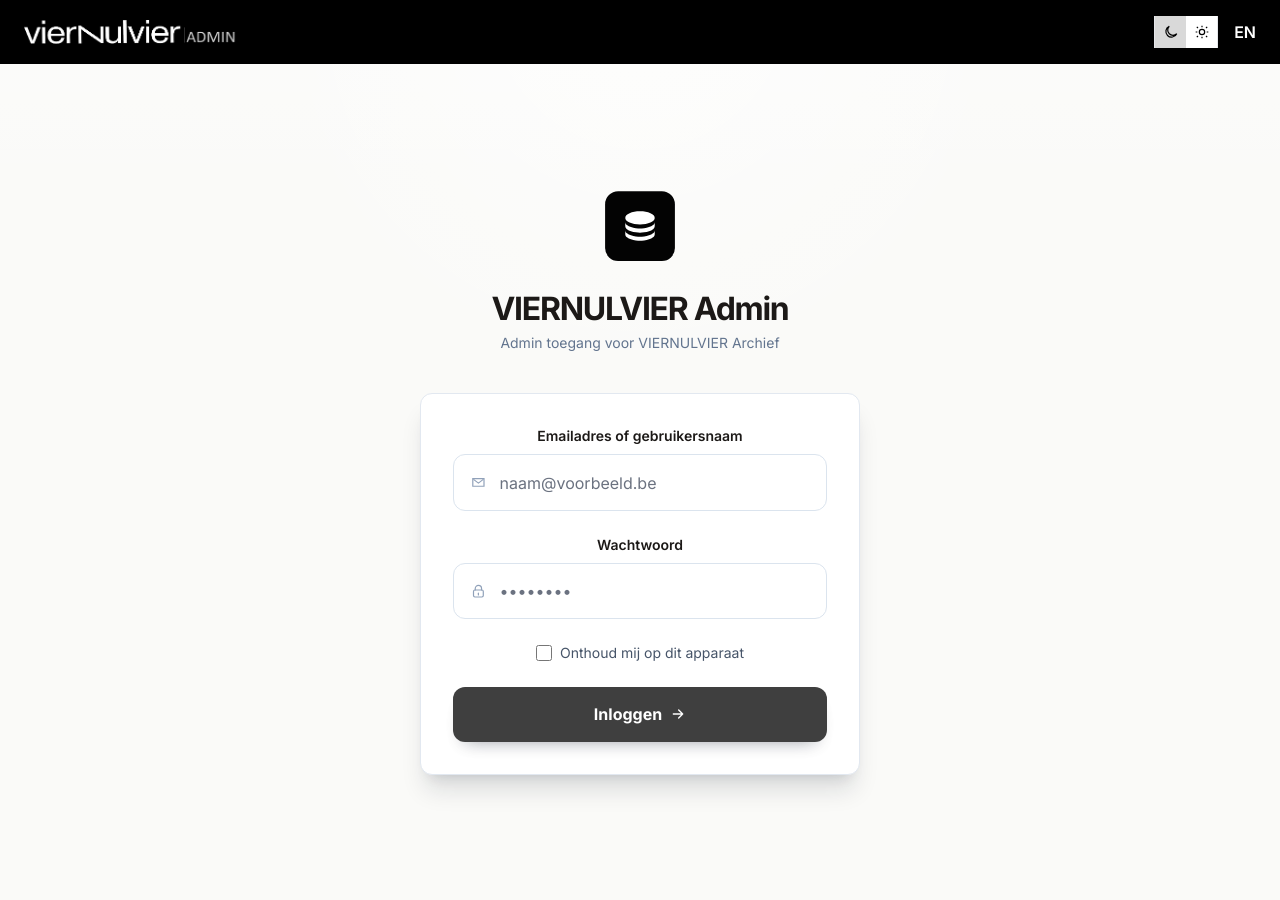
Test case: LoginPage › shows an inline message for invalid credentials
This screenshot has width=1280, height=900.
Type "admin" into the field labelled "Emailadres of gebruikersnaam" at (640, 483), box 454,455 -> 826,510
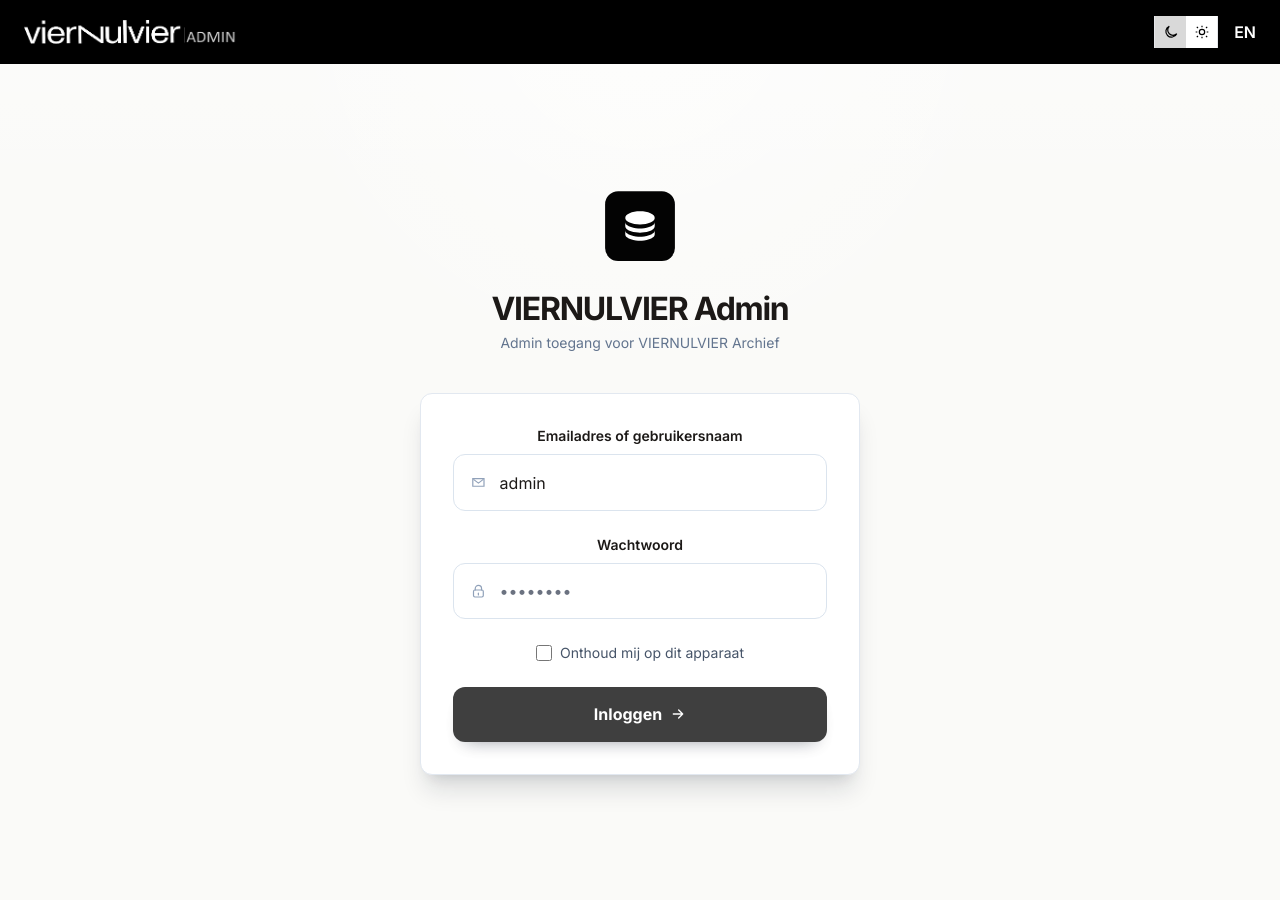
Type "foutwachtwoord" into the password field labelled "Wachtwoord" at (640, 591), box 454,564 -> 826,618
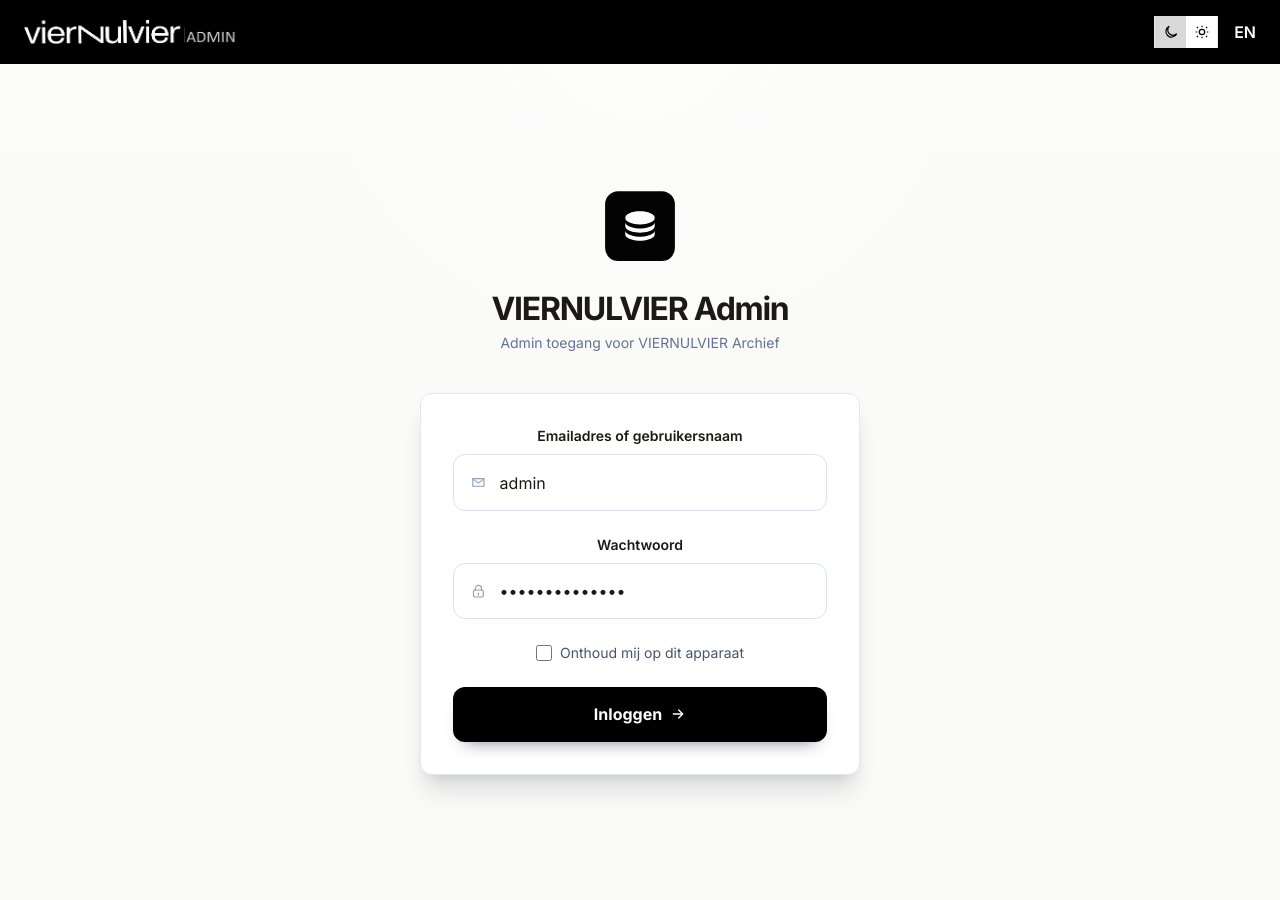
Click the button "Inloggen" at (640, 714), box 453,687 -> 827,742
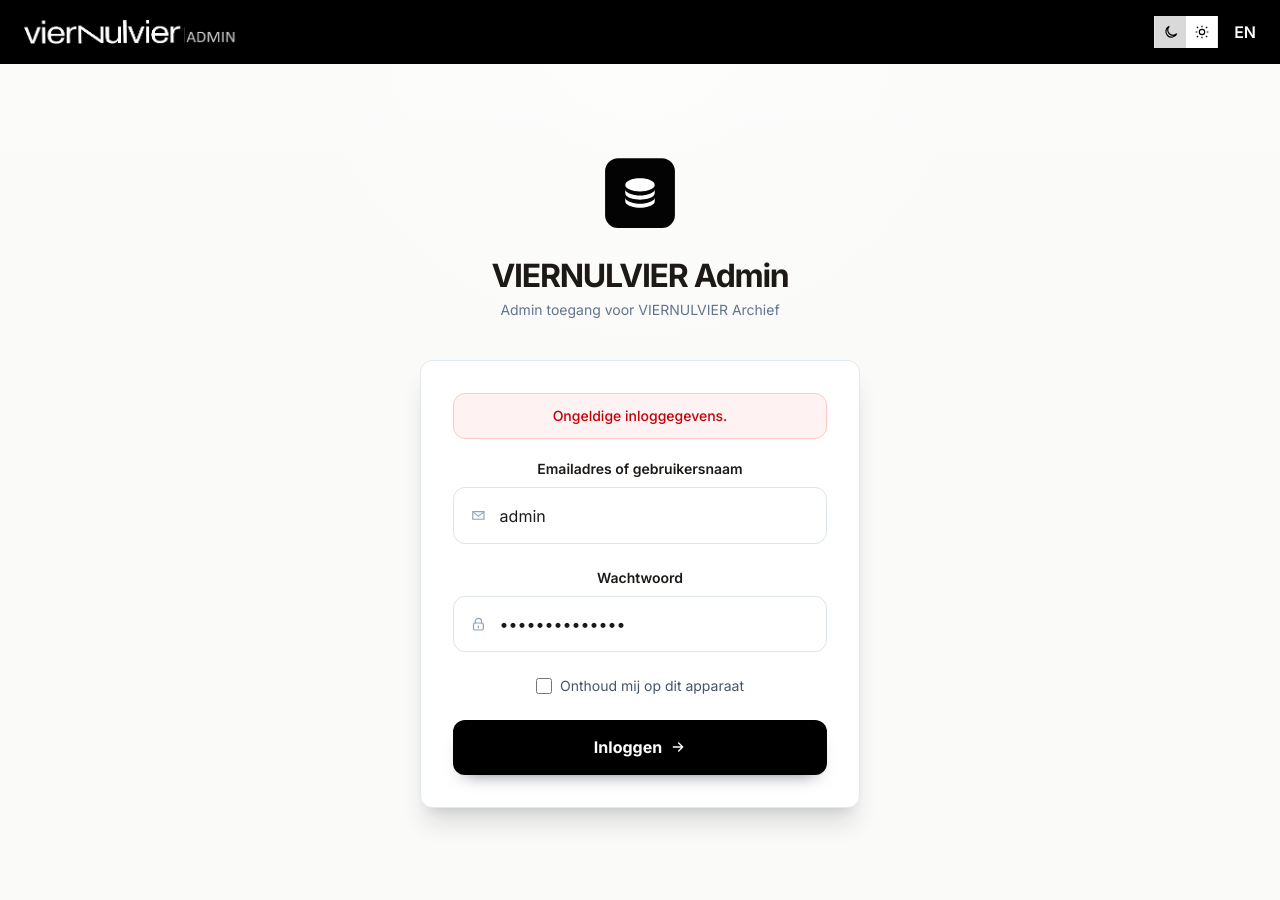
Now the text "Ongeldige inloggegevens." is shown, box 453,393 -> 827,439
